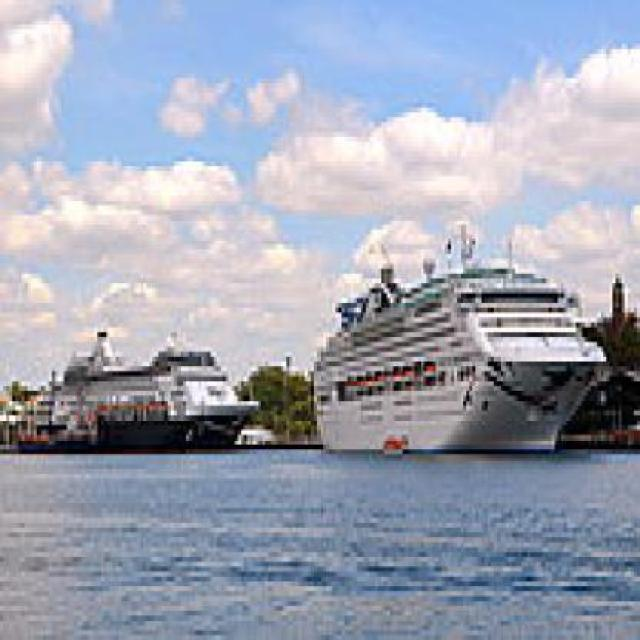cruise: (306, 201, 613, 470), (44, 313, 267, 461)
